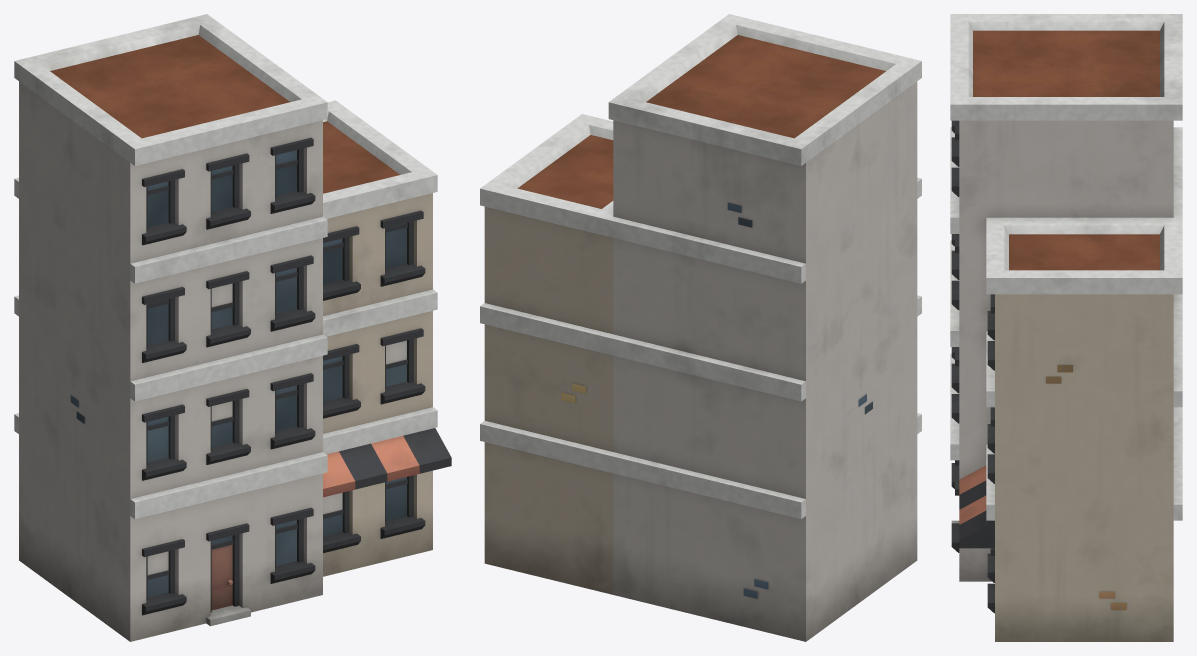
The model's file is building_H.glb.
The picture shows the model from 3 angles, left to right: view 1: azimuth 30°, elevation 25°; view 2: azimuth 150°, elevation 25°; view 3: azimuth 270°, elevation 25°; orthographic projection. The views are drawn at different scales.
Visible parts, largest first — view 1: building_H_withoutBase; view 2: building_H_withoutBase; view 3: building_H_withoutBase.
Boxes of the visible parts, x1,y1,x2,y2 form: building_H_withoutBase: (14, 14, 451, 641); building_H_withoutBase: (480, 14, 921, 641); building_H_withoutBase: (950, 14, 1182, 641).
Bounding box in the file's own units: 2.01 × 2.95 × 1.3.
2 materials, 2 textured.
